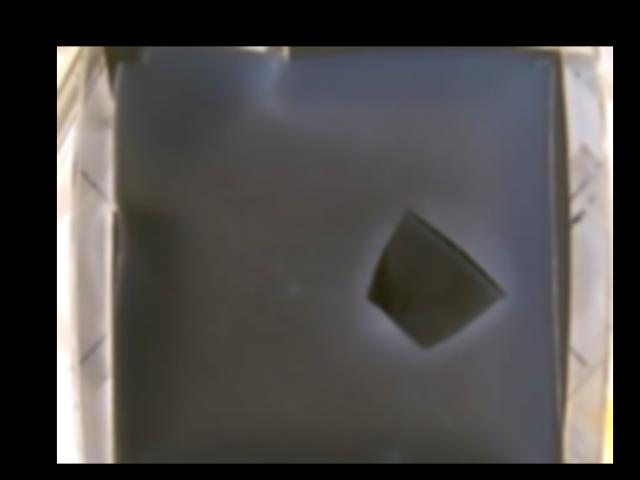Cup: (363, 204, 507, 348)
